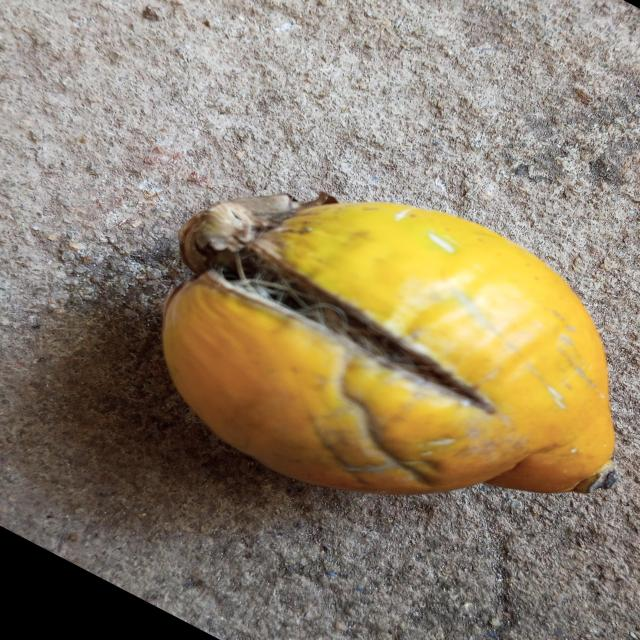damaged: (161, 196, 616, 497)
